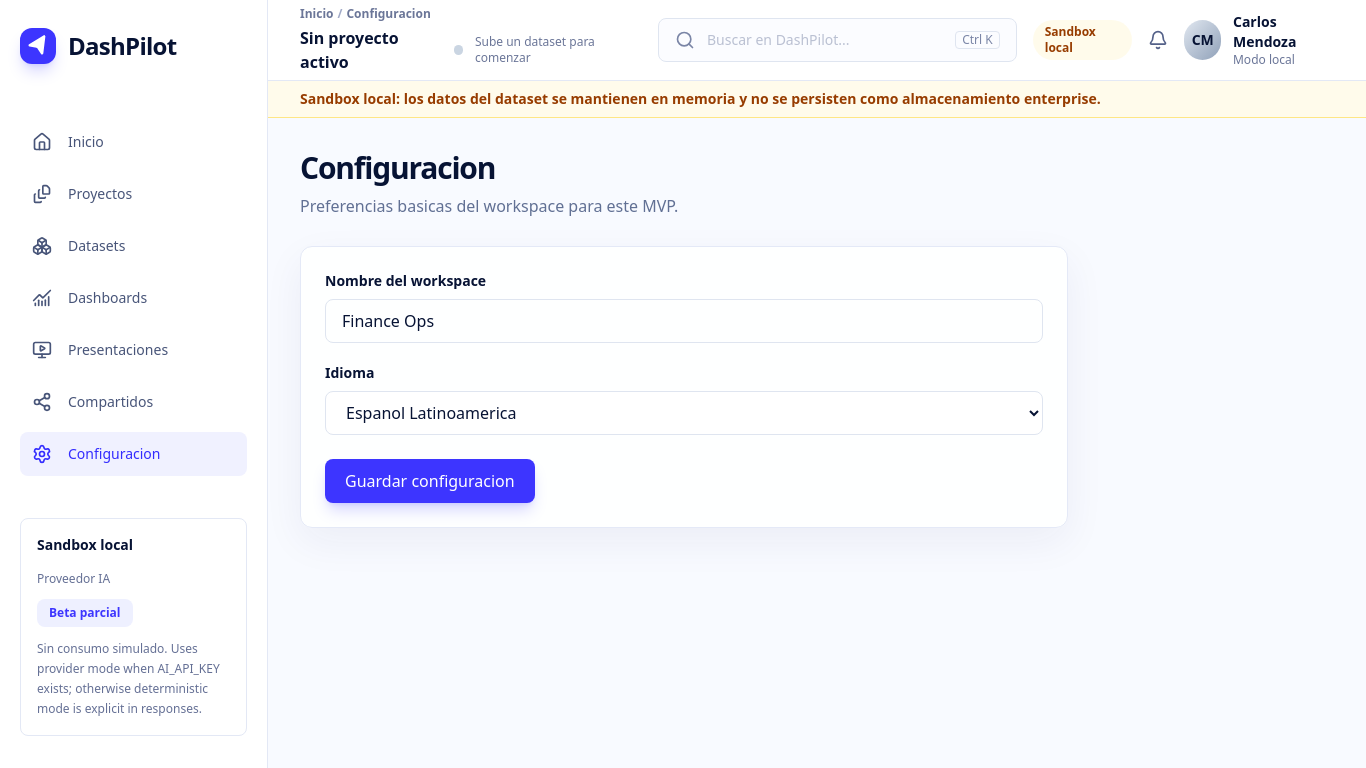
SettingsPage › loads and saves local workspace preferences without effect-driven state sync
Replace the text in the field labelled "Nombre del workspace" with "Revenue Desk" at (684, 321), box [325,299,1043,343]
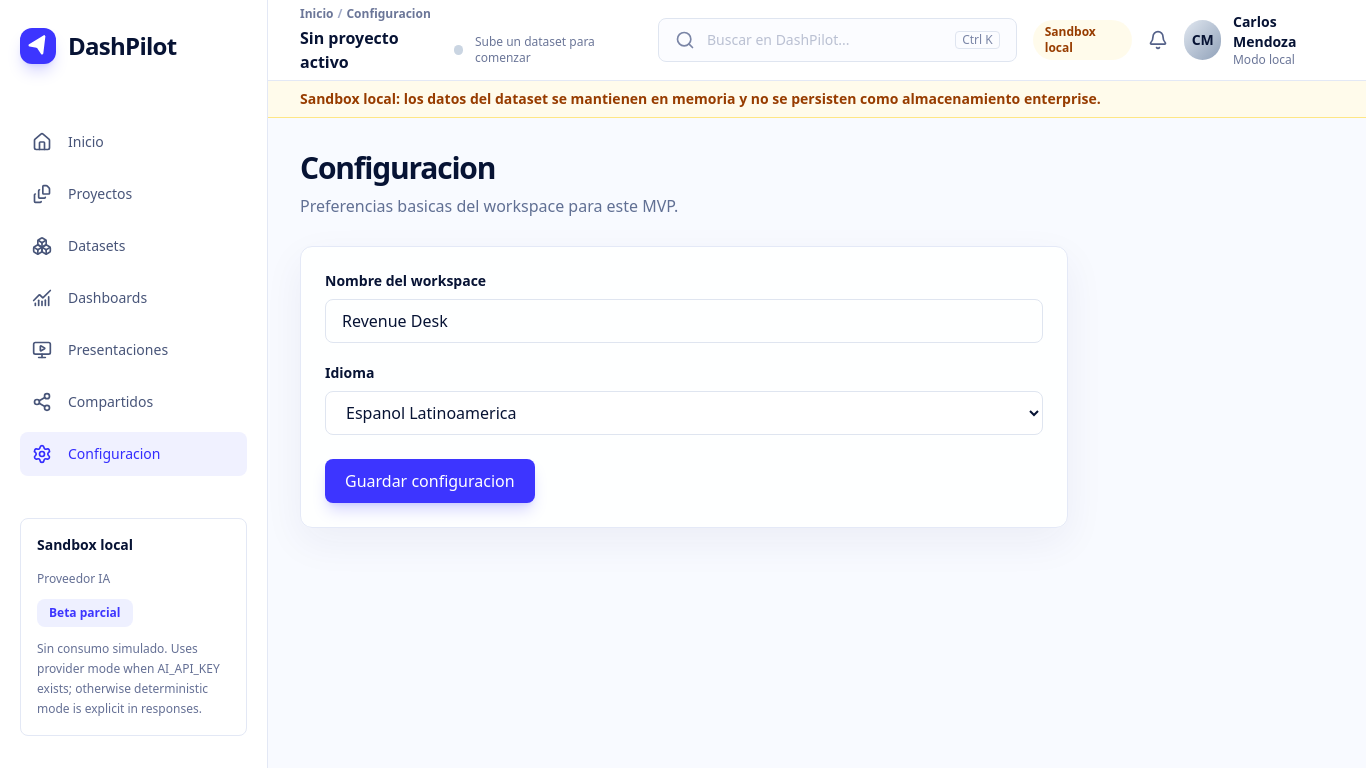
Click the button "Guardar configuracion" at (430, 481), box [325,459,535,503]
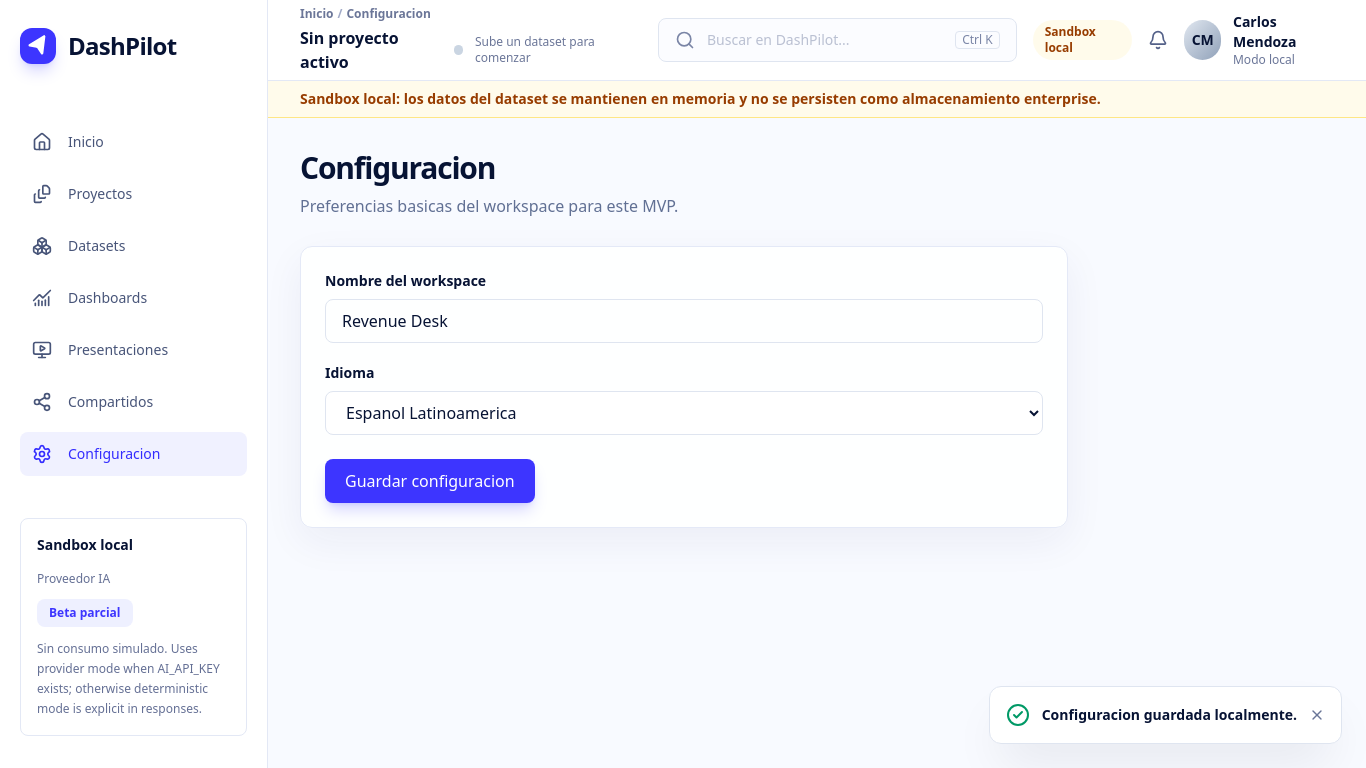
Now the text "Configuracion guardada localmente." is shown, box [1042,705,1297,725]
